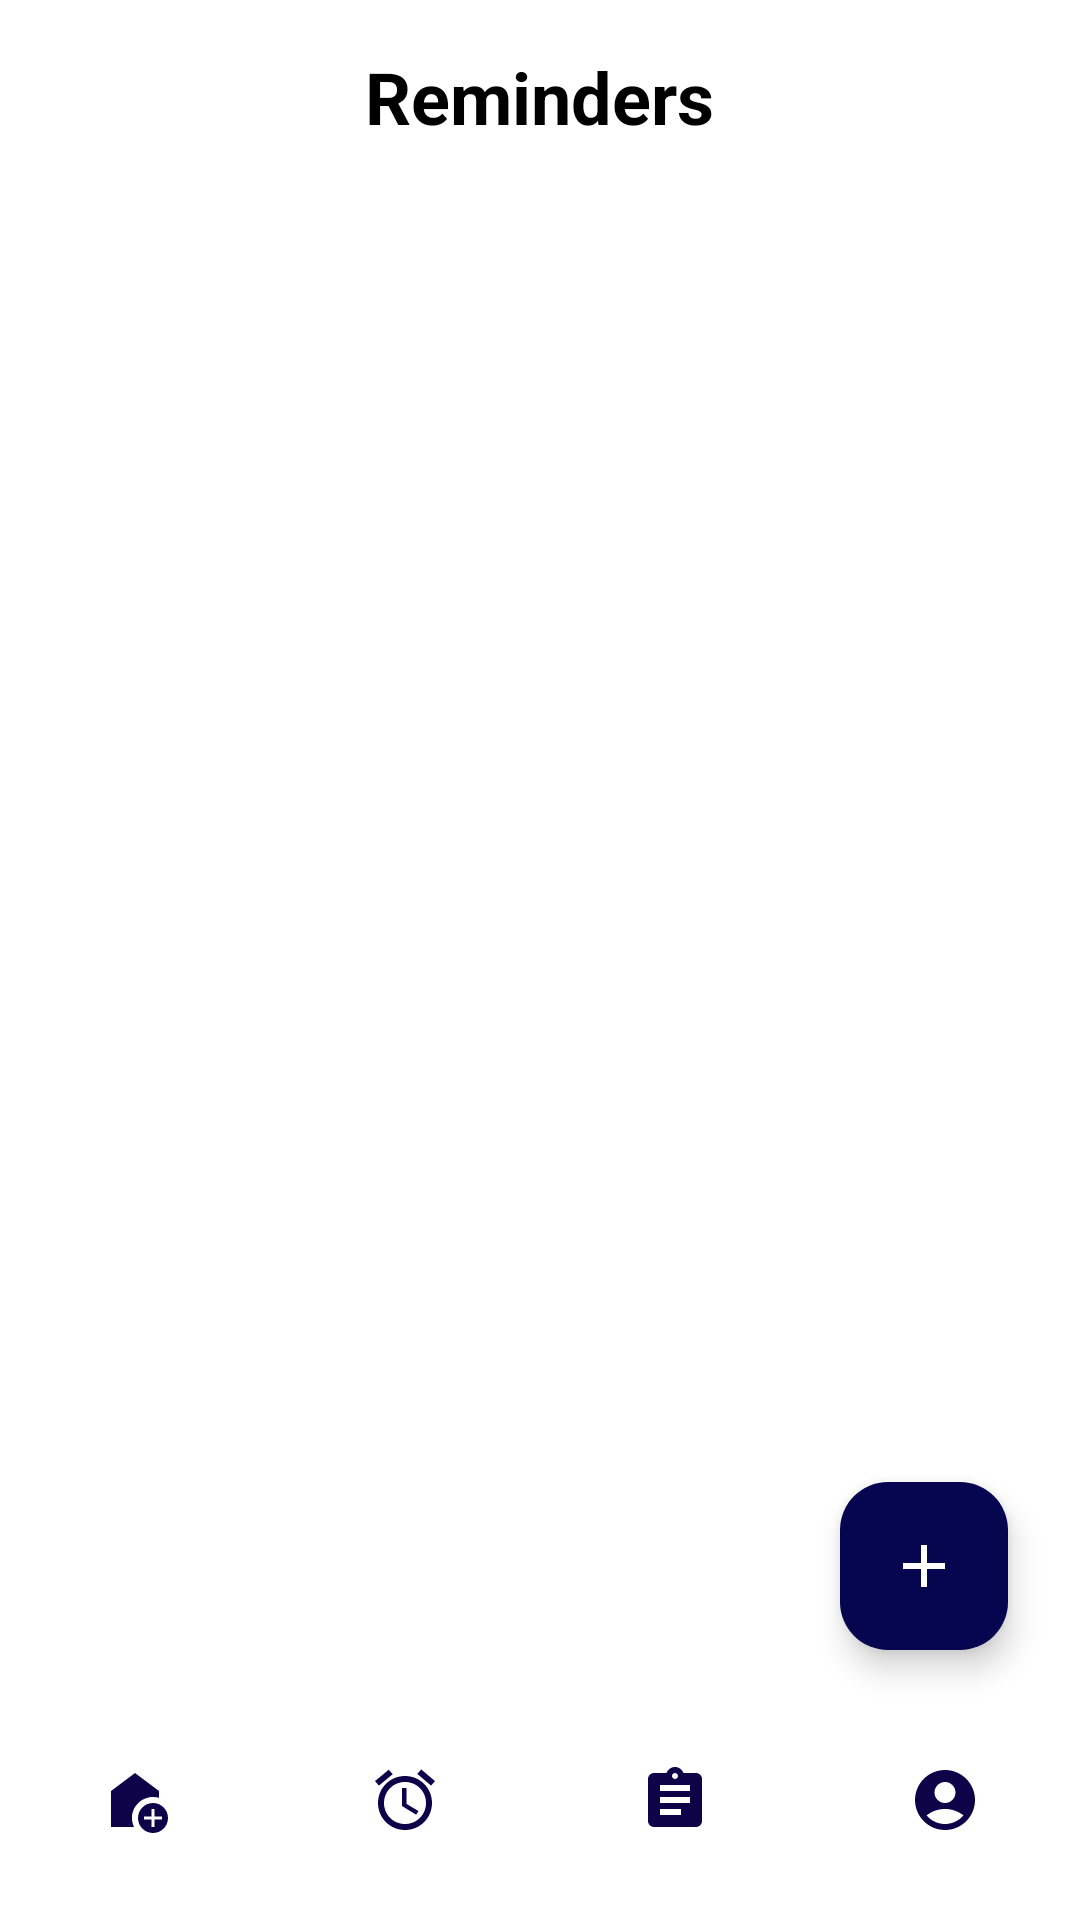

Named icons in this screenshot (1080 x 1920) and their centers, (x,y):
add: (924,1566)
